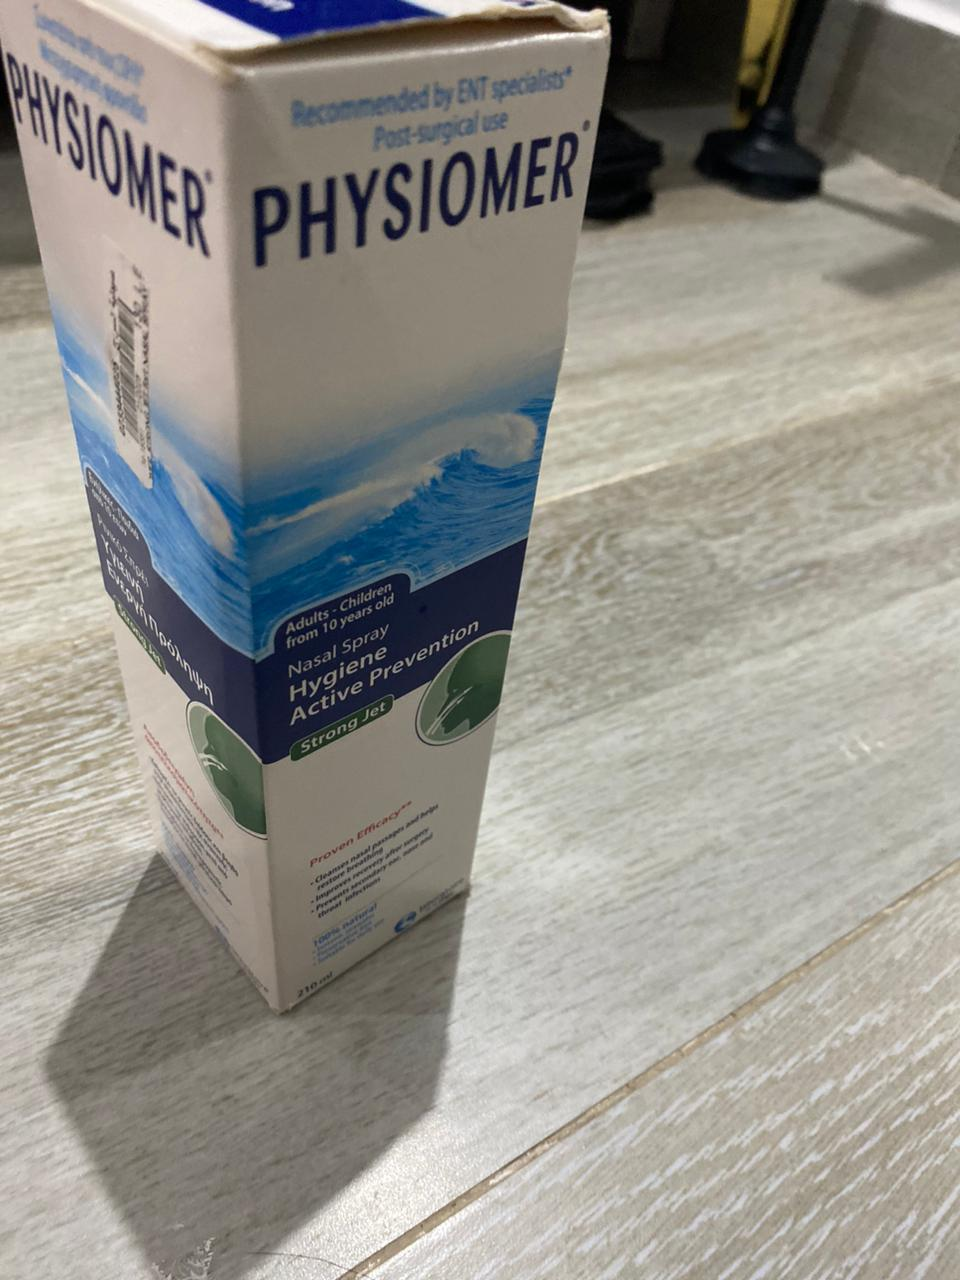Physiomer: (2, 1, 619, 1019)
